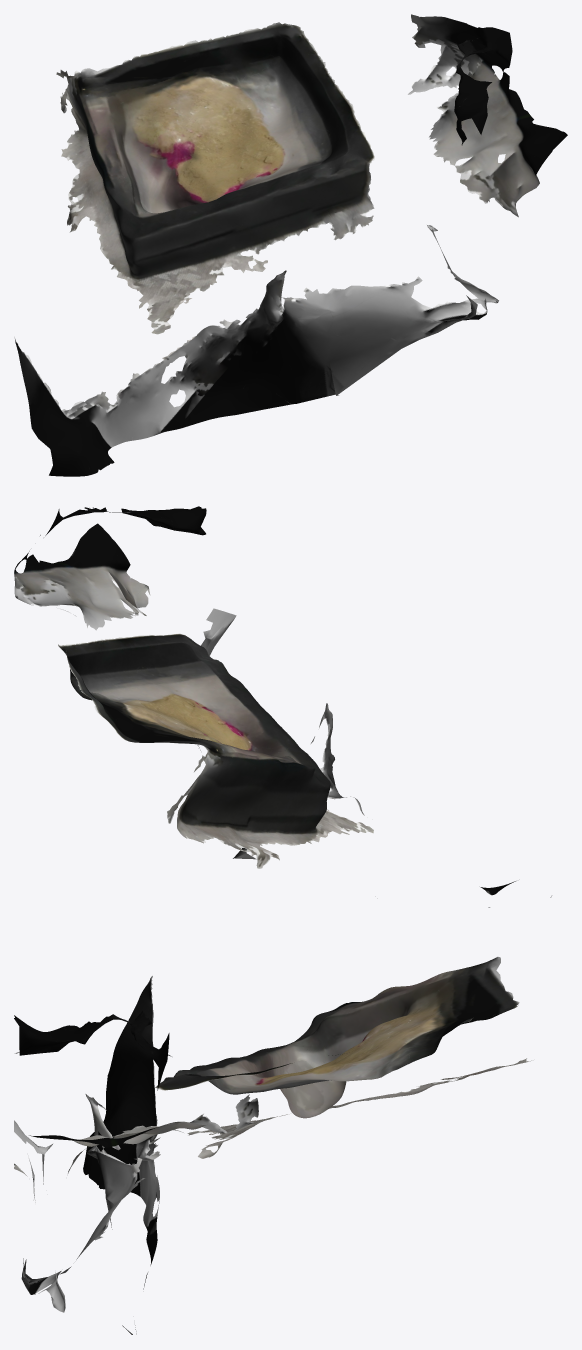
The picture shows the model from 3 angles, top to bottom: view 1: azimuth 30°, elevation 25°; view 2: azimuth 150°, elevation 25°; view 3: azimuth 270°, elevation 25°; orthographic projection. The views are drawn at different scales.
Bounding box in the file's own units: 0.7434 × 0.45 × 0.5644.
Materials: 1 (1 with a texture image).
